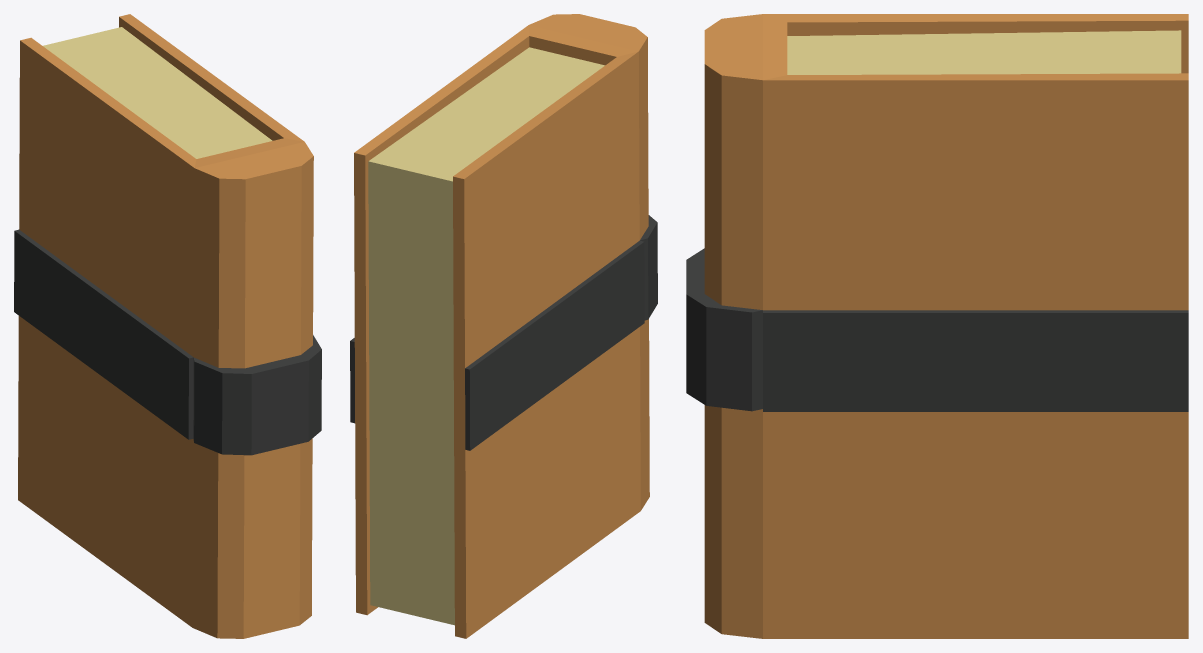
File: book.fbx
3 views of the same model, side by side, from view 1: azimuth 30°, elevation 25°; view 2: azimuth 150°, elevation 25°; view 3: azimuth 270°, elevation 25° (orthographic). The views are drawn at different scales.
Parts seen in each view (by area): view 1: Cube.008; view 2: Cube.008; view 3: Cube.008.
Part boxes in pixels (box(x1,y1,x2,y2)): Cube.008: box(14, 14, 321, 638); Cube.008: box(350, 14, 657, 638); Cube.008: box(686, 14, 1188, 638).
Size of the model in its own units: 34.97 by 128 by 104.
